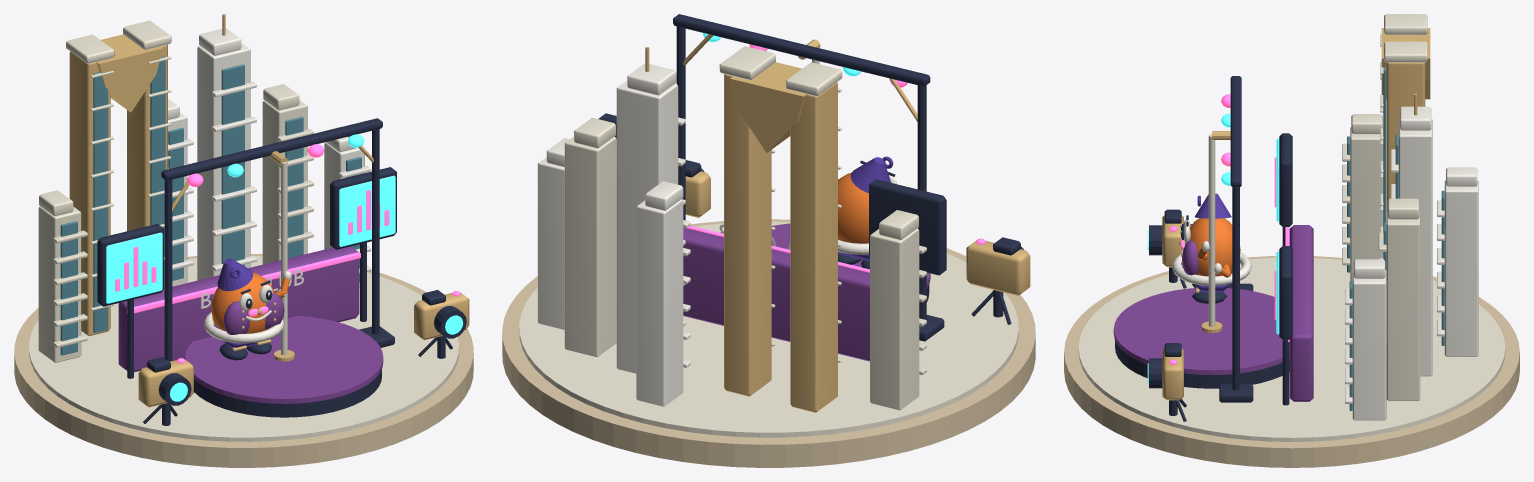
The model's file is fotos.glb.
3 renders of one model, left to right at view 1: azimuth 30°, elevation 25°; view 2: azimuth 150°, elevation 25°; view 3: azimuth 270°, elevation 25°, orthographic. The views are drawn at different scales.
Visible parts, largest first — view 1: static_fotos, boia_orange_body, boia_buoy_float, boia_slanted_cap, club_vest_panel_-0.268, club_vest_panel_-0.113; view 2: static_fotos, boia_orange_body, boia_slanted_cap; view 3: static_fotos, boia_orange_body, boia_buoy_float, club_vest_panel_-0.113.
Part boxes in pixels (<box>): static_fotos: <box>14,14,473,467</box>; boia_orange_body: <box>211,272,274,333</box>; boia_buoy_float: <box>204,312,284,343</box>; boia_slanted_cap: <box>217,258,253,291</box>; club_vest_panel_-0.268: <box>223,301,249,334</box>; club_vest_panel_-0.113: <box>265,293,284,329</box>; static_fotos: <box>502,14,1035,467</box>; boia_orange_body: <box>838,172,868,243</box>; boia_slanted_cap: <box>850,157,890,193</box>; static_fotos: <box>1064,14,1519,467</box>; boia_orange_body: <box>1184,218,1240,276</box>; boia_buoy_float: <box>1172,252,1251,285</box>; club_vest_panel_-0.113: <box>1182,240,1198,275</box>.
Bounding box in the file's own units: 1.88 × 1.39 × 1.88.
